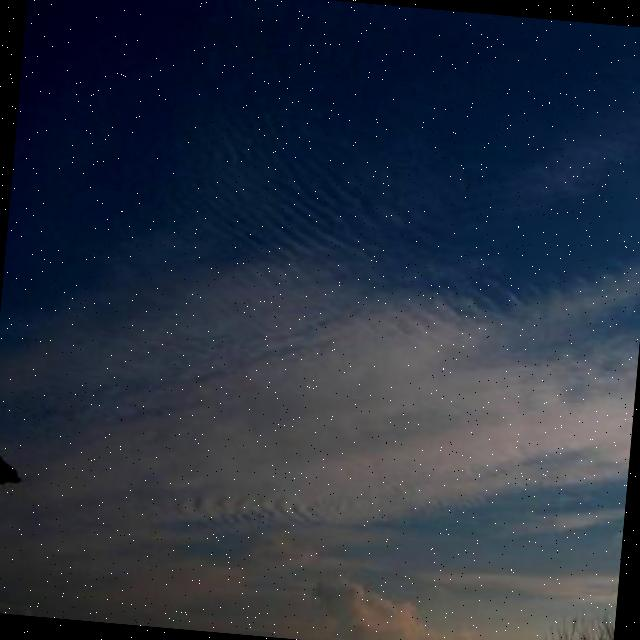Cc: (56, 142, 640, 581)
